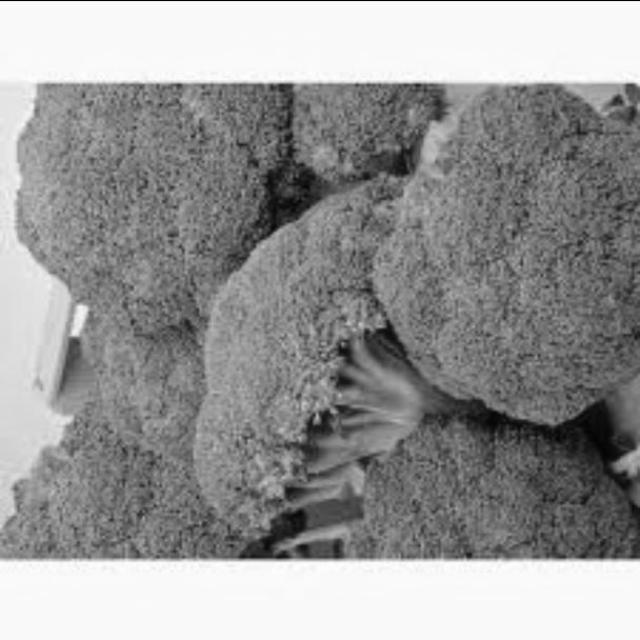bong cai xanh: (179, 190, 427, 532), (29, 57, 320, 343), (372, 116, 639, 400), (334, 338, 614, 602), (2, 302, 276, 558)
